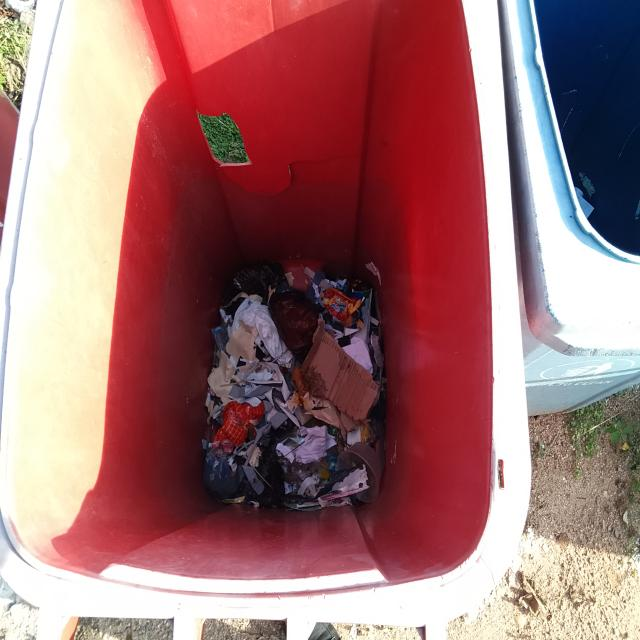half-full: (14, 16, 518, 599), (505, 0, 640, 349)
